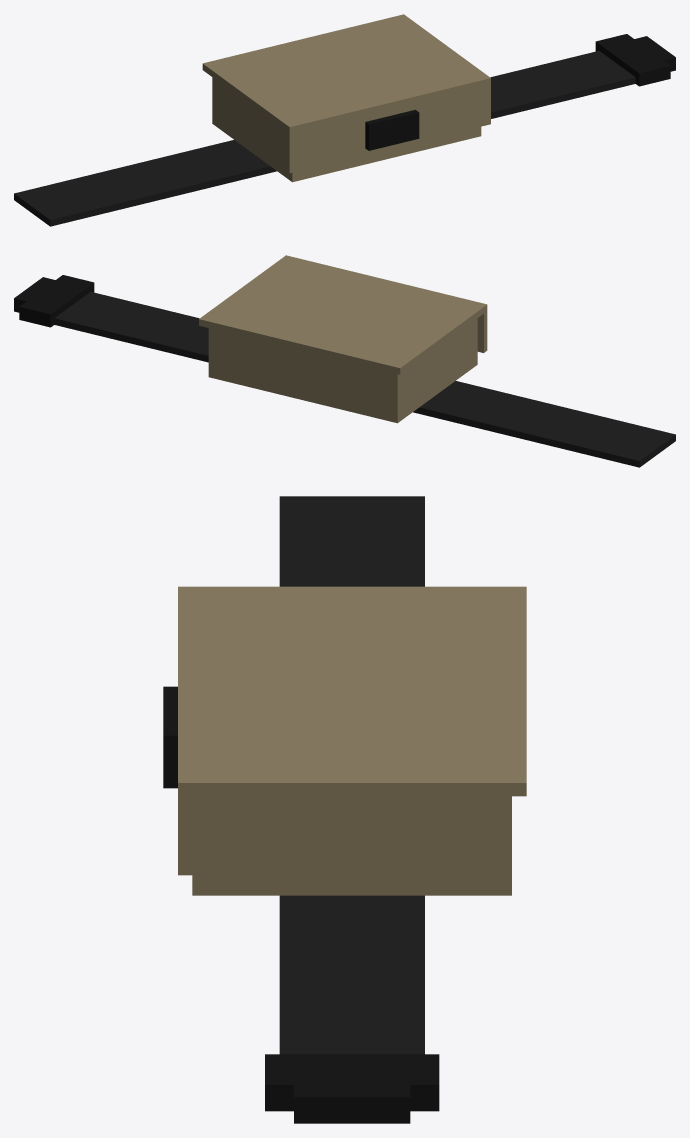
File: armrig.glb
3 renders of one model, top to bottom at view 1: azimuth 30°, elevation 25°; view 2: azimuth 150°, elevation 25°; view 3: azimuth 270°, elevation 25°, orthographic. The views are drawn at different scales.
Parts seen in each view (by area): view 1: armrig:compound; view 2: armrig:compound; view 3: armrig:compound.
Part boxes in pixels (x1,y1,x2,y2): armrig:compound: (14,14,675,226); armrig:compound: (14,255,675,467); armrig:compound: (163,496,526,1123).
Size of the model in its own units: 0.4 by 0.04 by 0.1.
